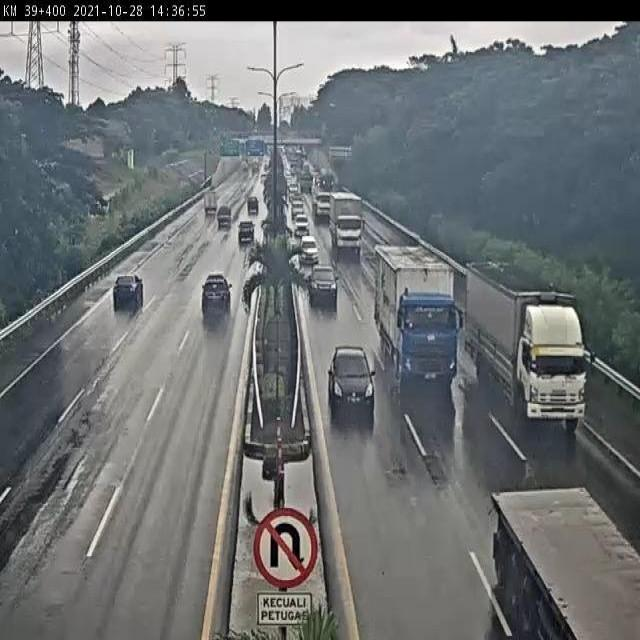big truck: (501, 305, 590, 432), (382, 253, 457, 379), (331, 193, 365, 248)
car: (324, 336, 372, 413), (186, 272, 235, 329), (100, 276, 142, 325), (302, 263, 344, 309), (238, 225, 252, 258), (244, 196, 262, 220), (301, 230, 317, 253), (293, 209, 306, 228)
